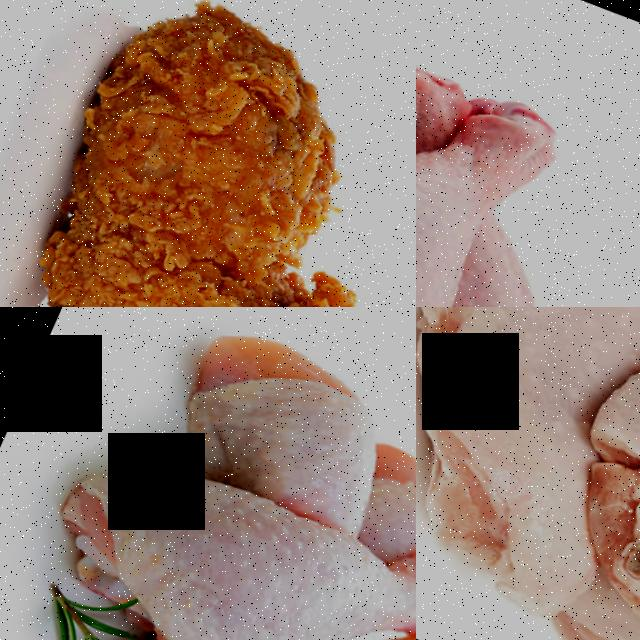chicken thigh: (0, 0, 399, 307), (34, 424, 416, 640), (416, 307, 640, 640), (416, 6, 578, 307), (531, 307, 640, 640)
